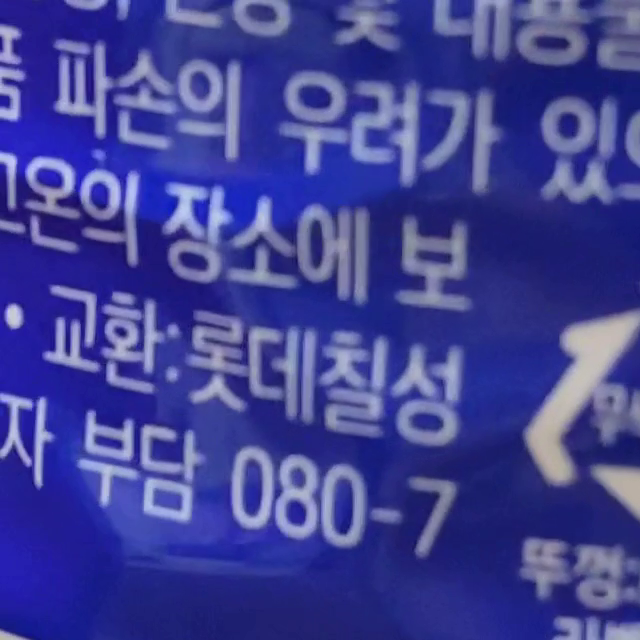ColorlessPet: (520, 277, 640, 534)
